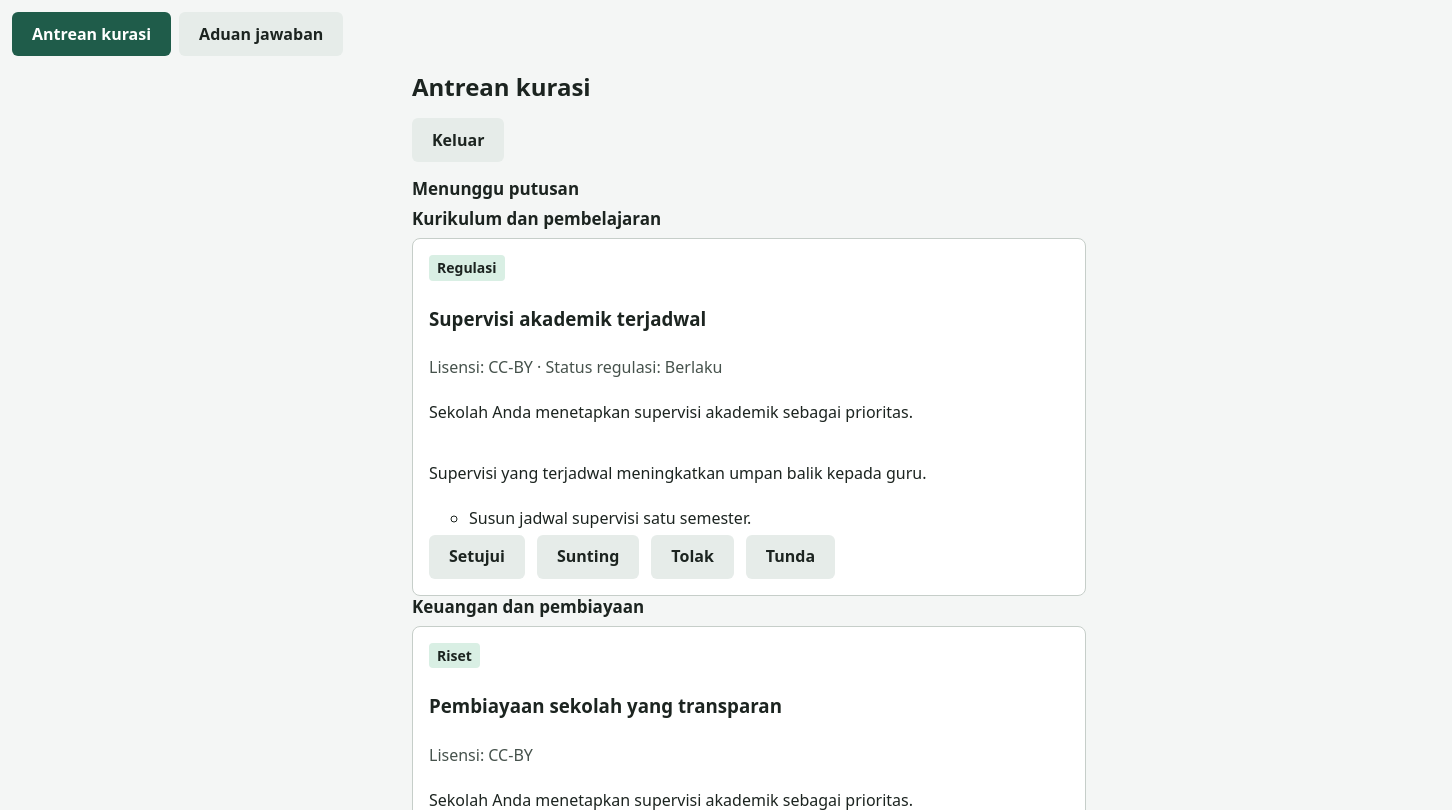
Test case: S-15 antrean › penolakan 400: kalimat tanpa kode, baris tetap
Click the button "Setujui" at (477, 556), box [429,534,525,578]
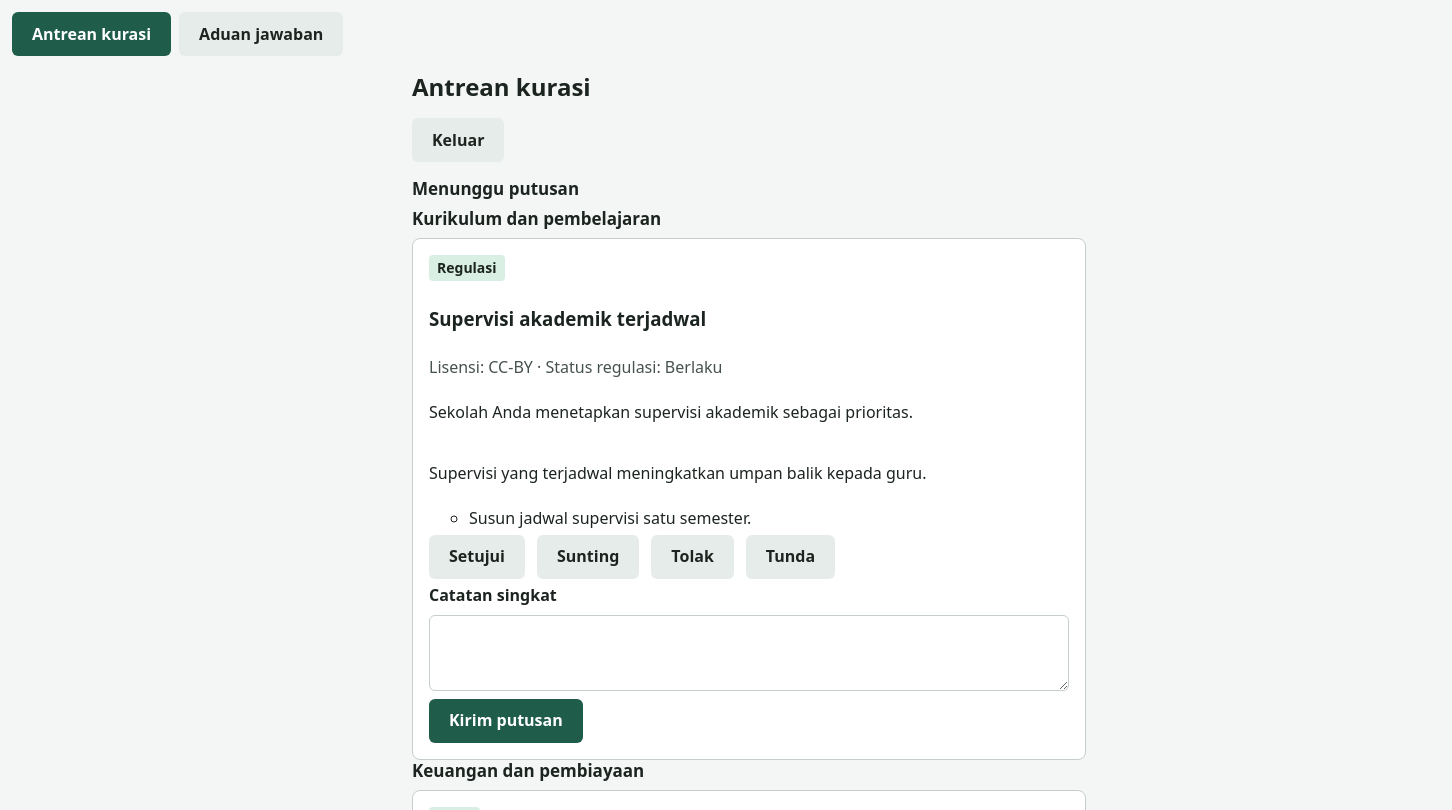
Type "x" into the text box labelled "Catatan singkat" at (749, 653), box [429,615,1069,691]
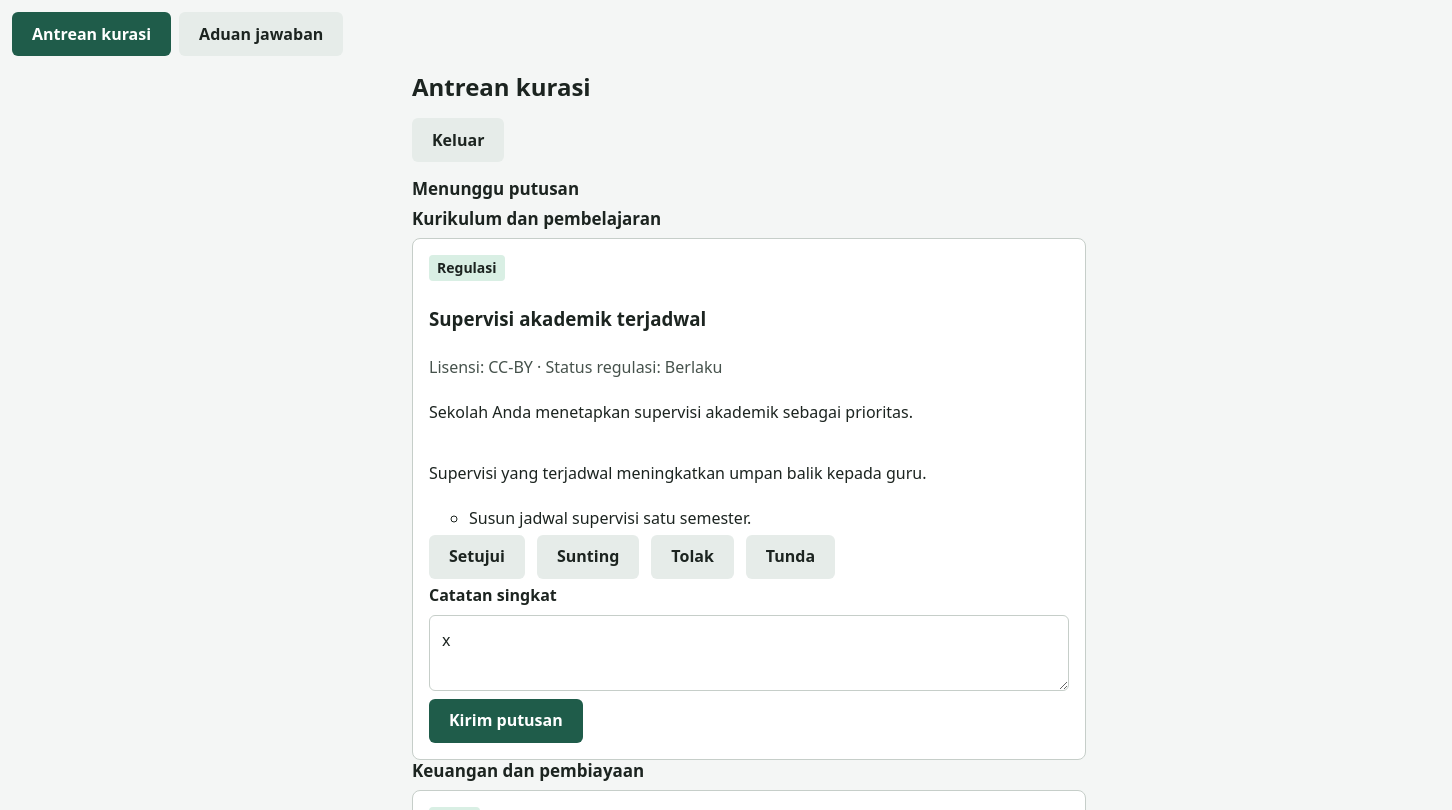
Click the button "Kirim putusan" at (506, 721), box [429,699,583,743]
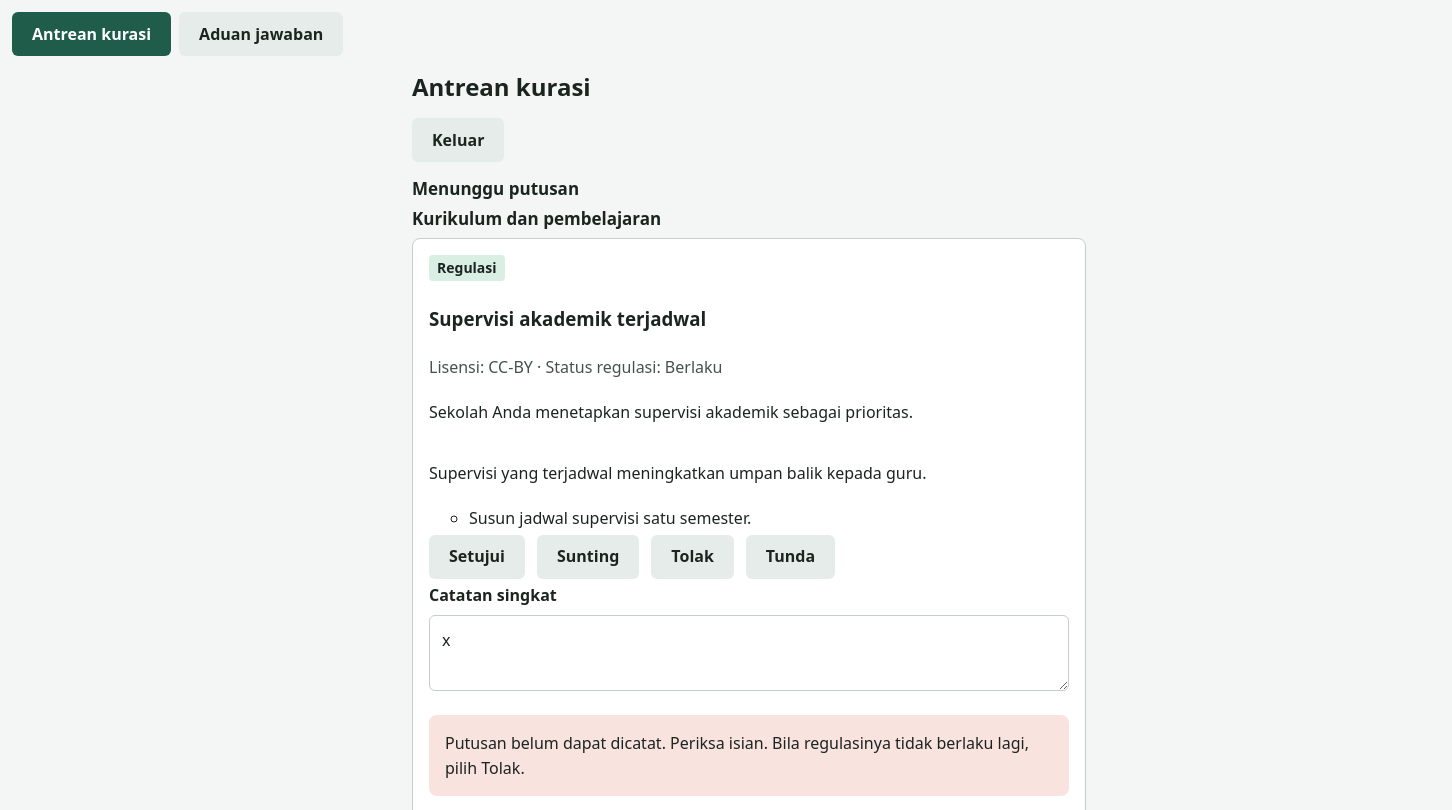
Expected: the heading "Supervisi akademik terjadwal" is shown, [429,306,706,331]
Expected: the text "Putusan belum dapat dicatat. Periksa isian. Bila regulasinya tidak berlaku lagi, pilih Tolak." is shown, [445,732,1029,779]
